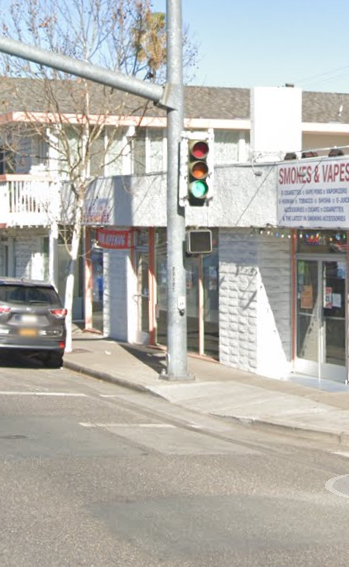green_light: (184, 140, 210, 204)
